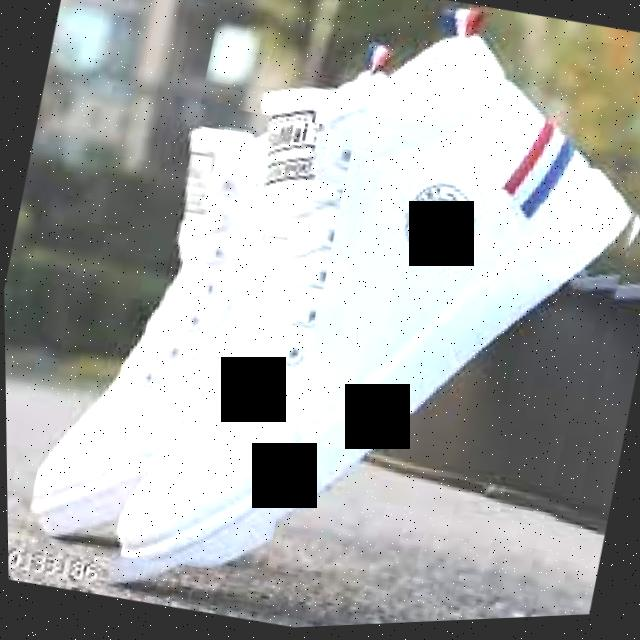shoe: (96, 0, 640, 637), (16, 82, 360, 594)
